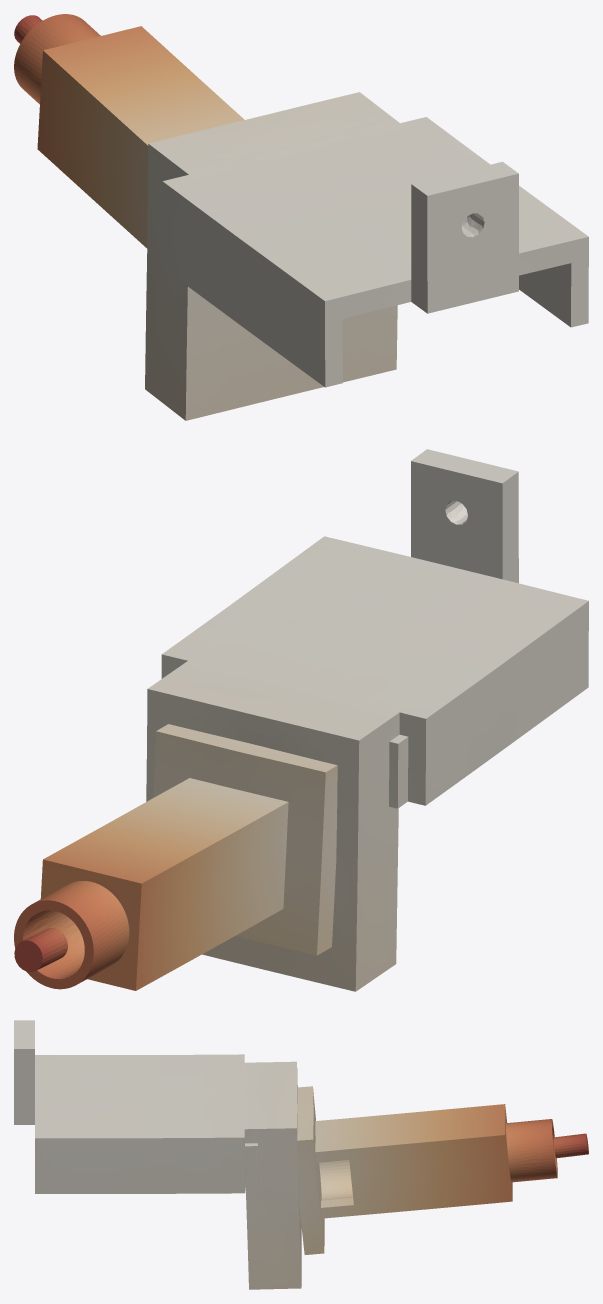
The model's file is z_saddle_tab16_Fy_u.glb.
3 renders of one model, top to bottom at view 1: azimuth 30°, elevation 25°; view 2: azimuth 150°, elevation 25°; view 3: azimuth 270°, elevation 25°, orthographic. The views are drawn at different scales.
Visible parts, largest first — view 1: geometry_0; view 2: geometry_0; view 3: geometry_0.
Part boxes in pixels (<box>): geometry_0: <box>14,14,588,420</box>; geometry_0: <box>14,449,588,991</box>; geometry_0: <box>14,1020,588,1289</box>.
Bounding box in the file's own units: 150 × 187 × 438.
